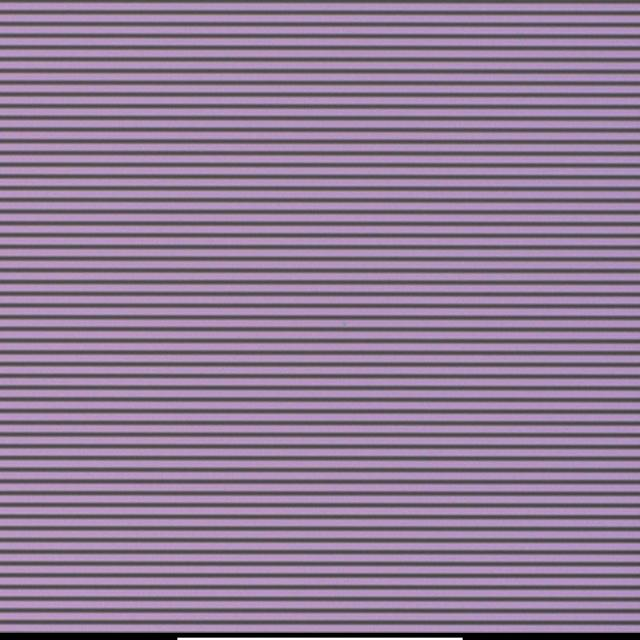nonvisual: (341, 321, 348, 329)
